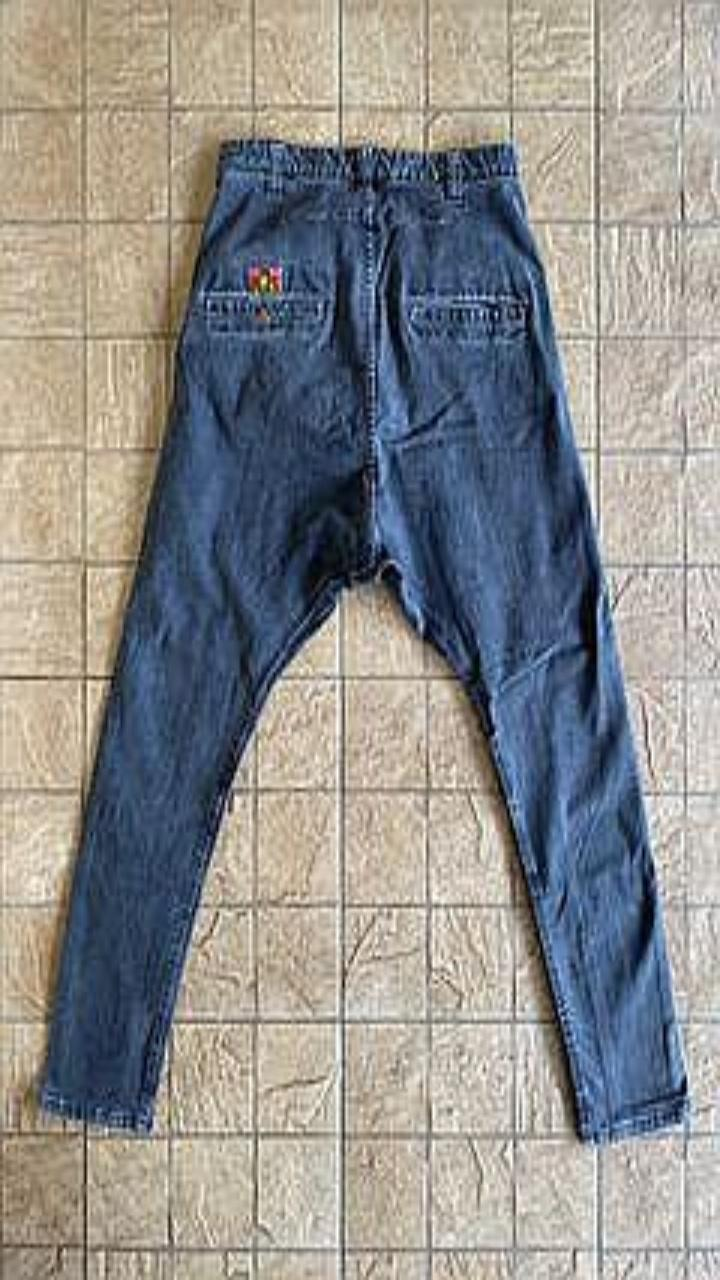Jeans: (38, 138, 689, 1142)
